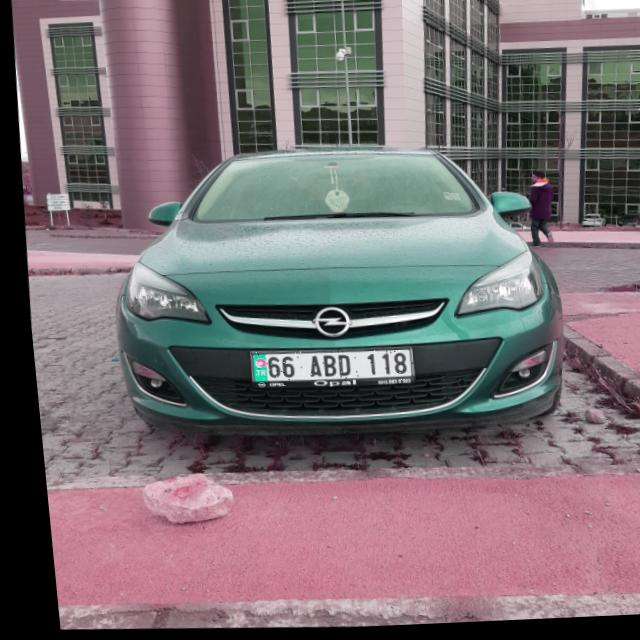license_plate: (241, 347, 407, 390)
